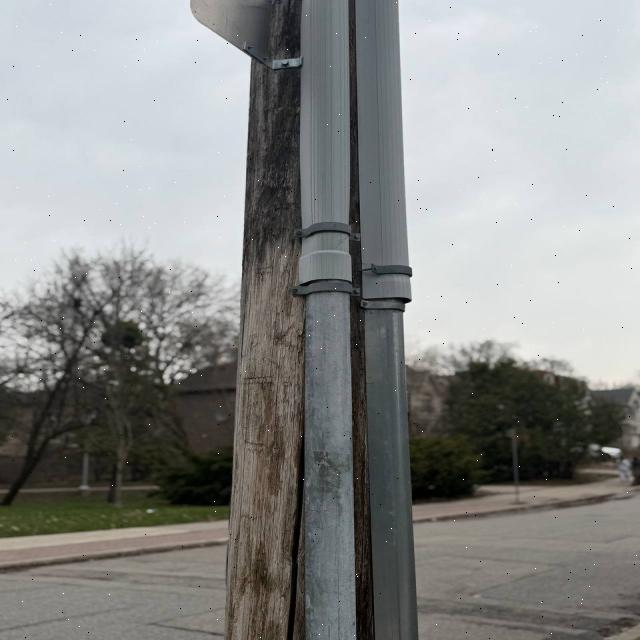Electrical Pole: (193, 2, 422, 640)
